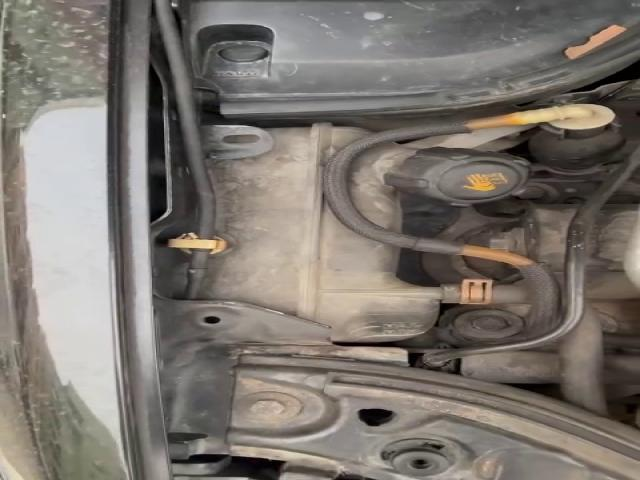antifreeze_tank: (203, 124, 442, 342), (351, 143, 530, 231)
